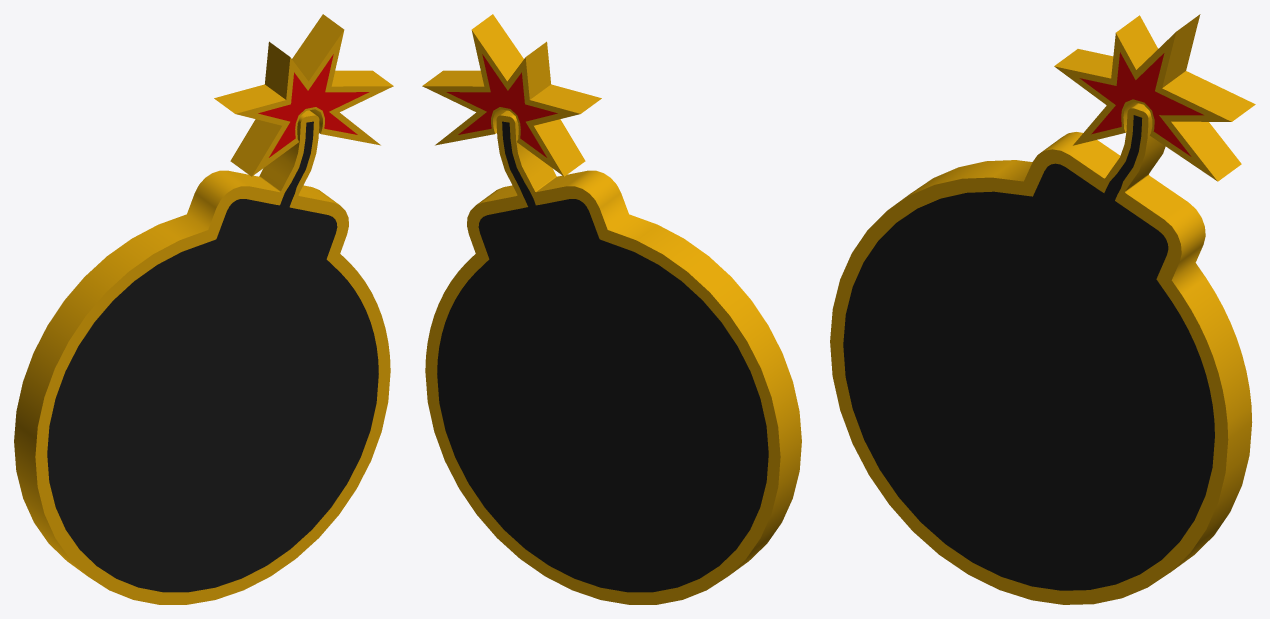
The model's file is Bomb.fbx.
The picture shows the model from 3 angles, left to right: view 1: azimuth 30°, elevation 25°; view 2: azimuth 150°, elevation 25°; view 3: azimuth 330°, elevation 25°; orthographic projection. The views are drawn at different scales.
Parts seen in each view (by area): view 1: polySurface1; view 2: polySurface1; view 3: polySurface1.
Boxes of the visible parts, x1,y1,x2,y2 form: polySurface1: [14, 14, 393, 604]; polySurface1: [422, 14, 801, 604]; polySurface1: [830, 14, 1255, 604].
Bounding box in the file's own units: 0.6952 × 0.9984 × 0.0718.
